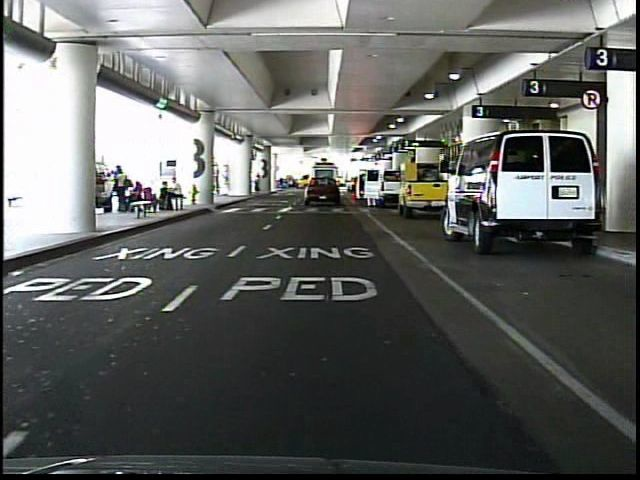person: (254, 170, 266, 195)
